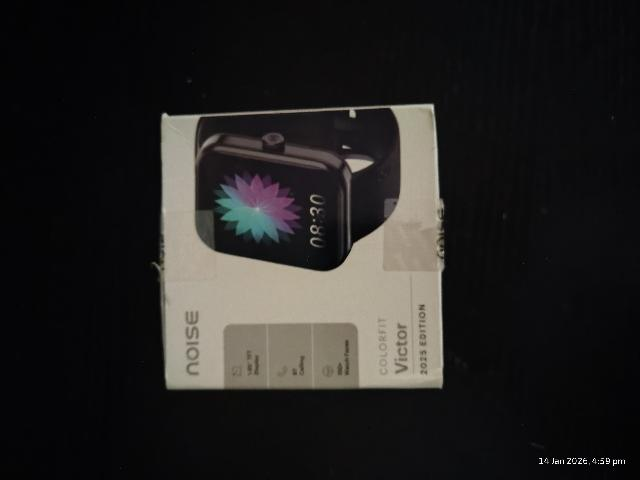noise victor smartwatch: (156, 113, 447, 380)
